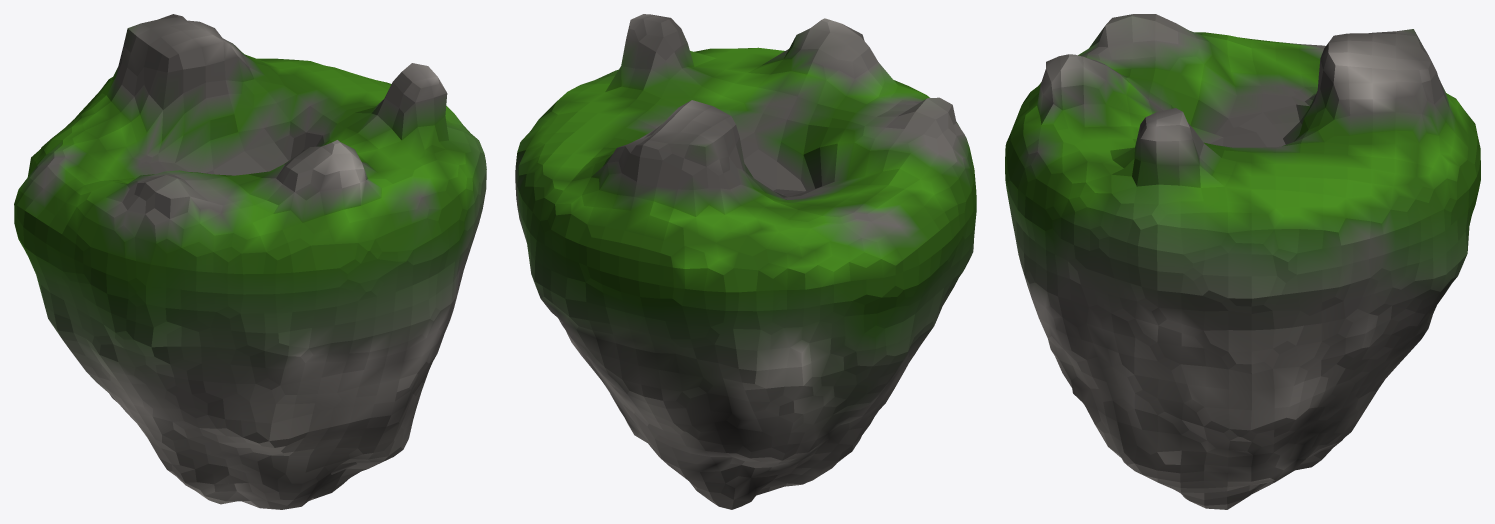
Rendered from lowpolyisland.fbx.
3 views of the same model, side by side, from view 1: azimuth 30°, elevation 25°; view 2: azimuth 150°, elevation 25°; view 3: azimuth 270°, elevation 25° (orthographic). The views are drawn at different scales.
Parts seen in each view (by area): view 1: Sphere; view 2: Sphere; view 3: Sphere.
Boxes of the visible parts, x1,y1,x2,y2 form: Sphere: (14,14,486,509); Sphere: (515,14,976,509); Sphere: (1005,14,1480,509).
Bounding box in the file's own units: 1056 × 1057 × 1034.
